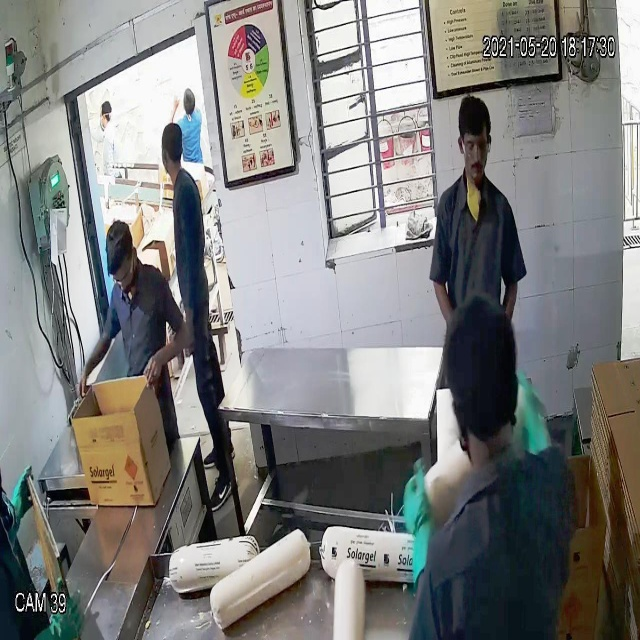Gafas: (454, 132, 493, 163), (104, 258, 139, 287)
